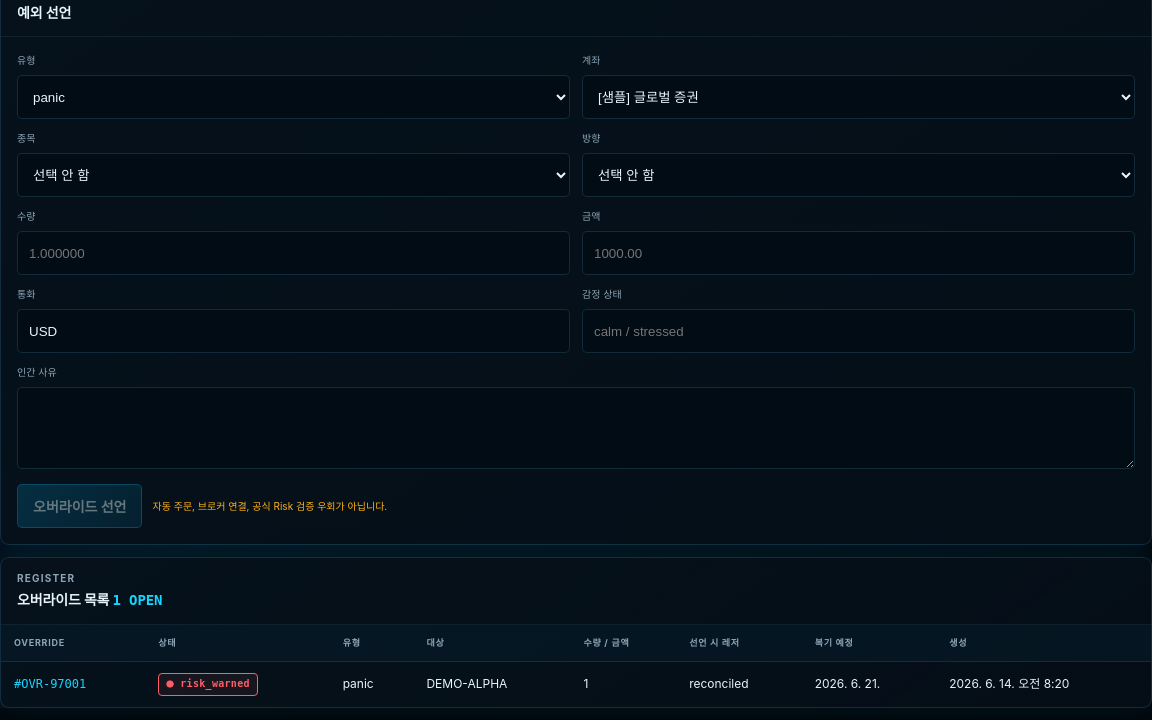
Test: Stage 7 override and journal UI › requires a human reason before declaring override
(page scrolled)
Expected: the button "오버라이드 선언" is disabled, [17,484,142,528]
Type "테스트 예외 사유" into the text box labelled "인간 사유" at x=576, y=428, box [17,387,1135,469]
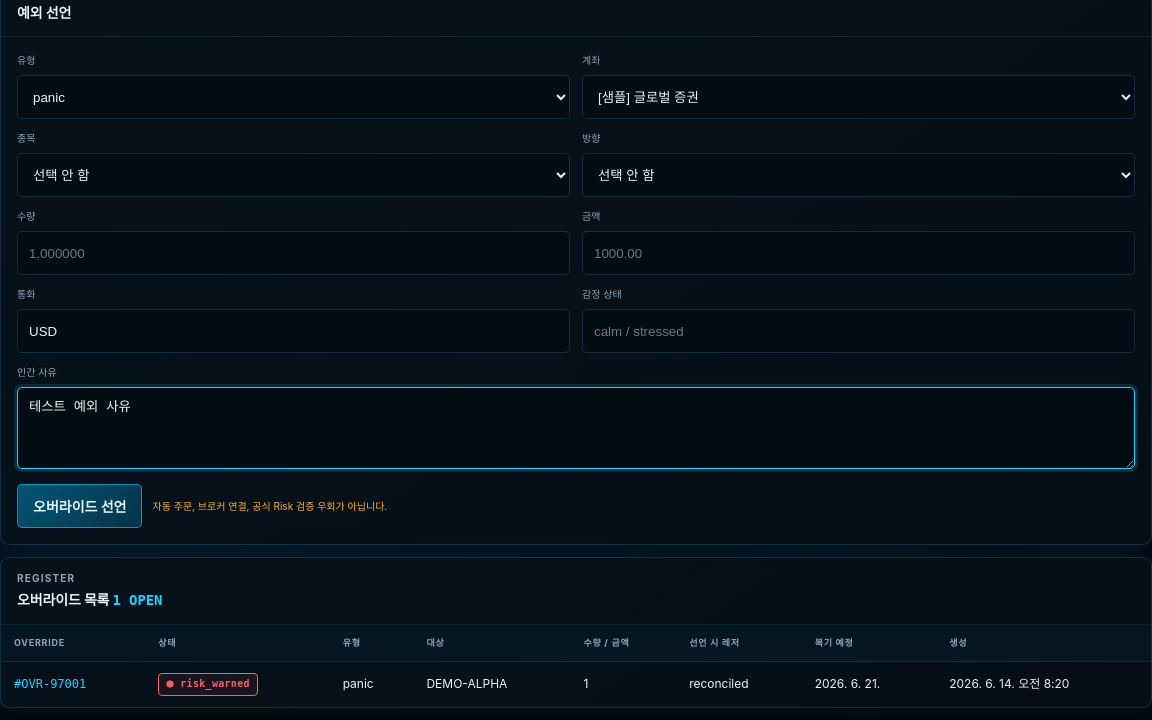
Now the button "오버라이드 선언" is enabled, box [17,484,142,528]
